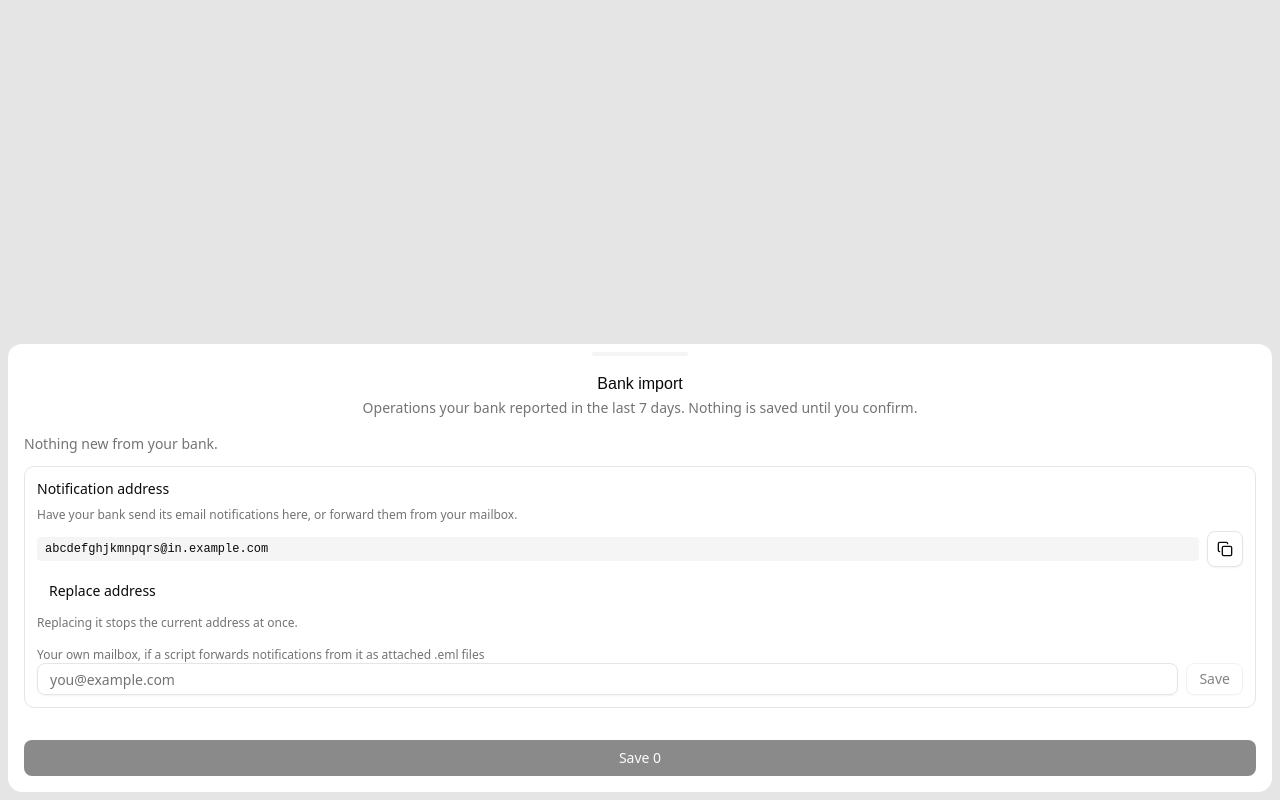
BankImportDrawer › notification address › replaces the address
The width and height of the screenshot is (1280, 800).
Click the button "Replace address" at {"x": 102, "y": 591}, box top-left (37, 575), bottom-right (168, 607)
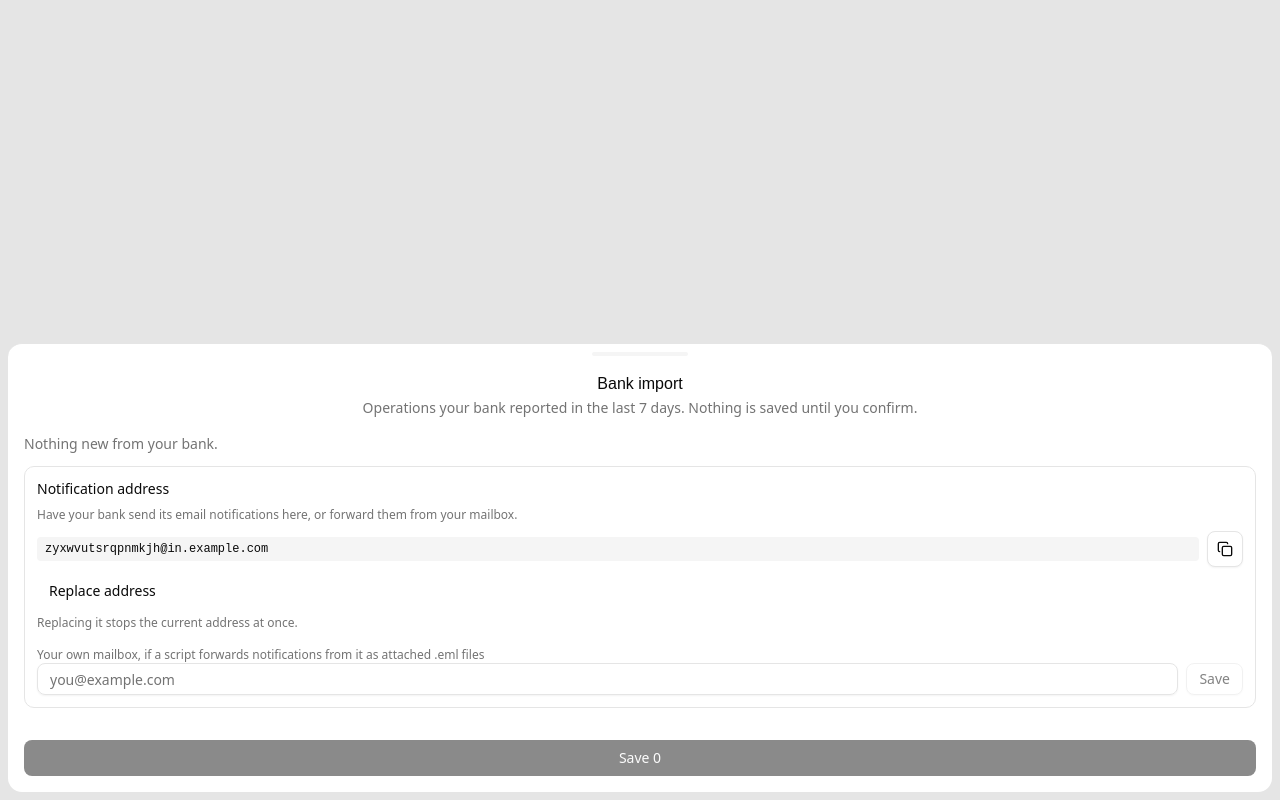
Check: the text "zyxwvutsrqpnmkjh@in.example.com" is shown, box top-left (37, 537), bottom-right (1199, 561)
Check: the text "abcdefghjkmnpqrs@in.example.com" is gone
